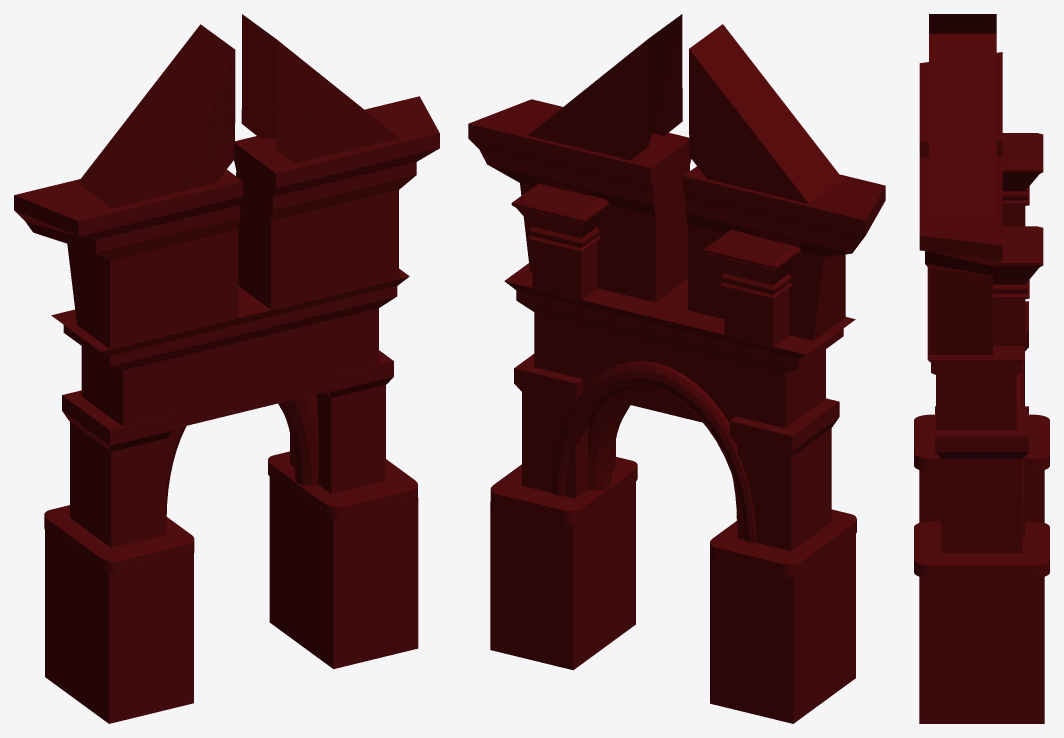
File: HELLPortal.fbx
3 renders of one model, left to right at view 1: azimuth 30°, elevation 25°; view 2: azimuth 150°, elevation 25°; view 3: azimuth 270°, elevation 25°, orthographic. The views are drawn at different scales.
Parts seen in each view (by area): view 1: Cube.018; view 2: Cube.018; view 3: Cube.018.
Part boxes in pixels (bbox=[...]): Cube.018: bbox=[14, 14, 439, 723]; Cube.018: bbox=[468, 14, 885, 723]; Cube.018: bbox=[914, 14, 1049, 723].
Size of the model in its own units: 955 by 1438 by 283.
